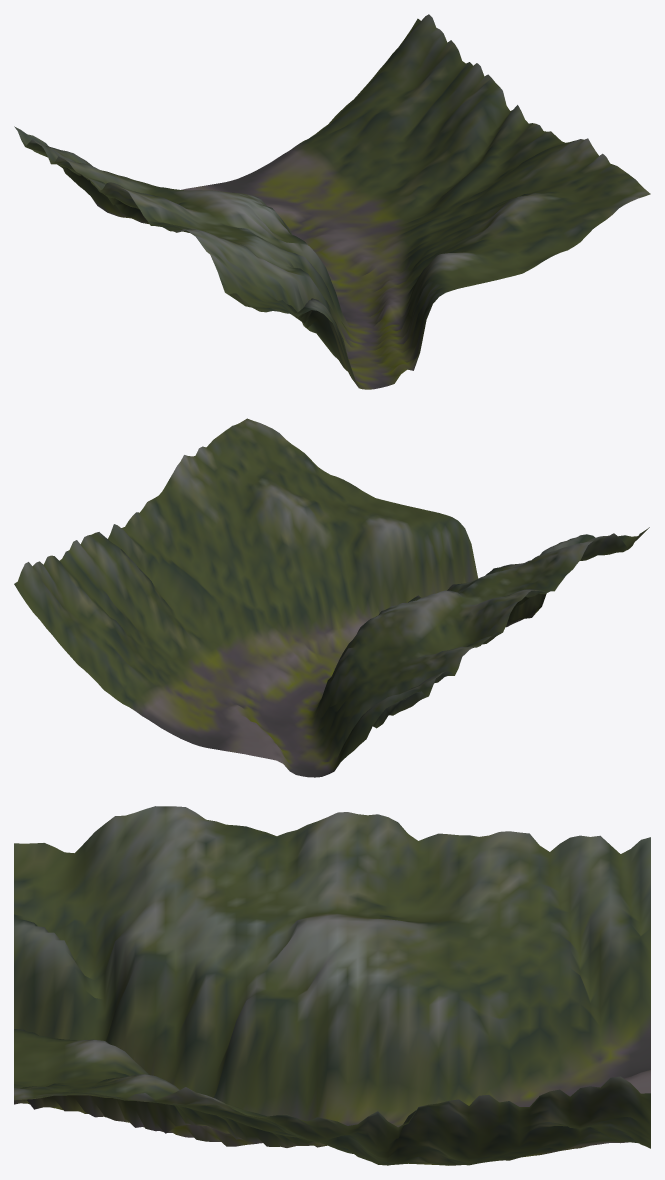
Rendered from TownLandscape_Mesh_x0125_2_3.fbx.
3 renders of one model, top to bottom at view 1: azimuth 30°, elevation 25°; view 2: azimuth 150°, elevation 25°; view 3: azimuth 270°, elevation 25°, orthographic. The views are drawn at different scales.
Visible parts, largest first — view 1: Terrain; view 2: Terrain; view 3: Terrain.
Boxes of the visible parts, x1,y1,x2,y2 form: Terrain: [14, 14, 650, 389]; Terrain: [14, 418, 649, 777]; Terrain: [14, 806, 650, 1165].
Bounding box in the file's own units: 1024 × 364 × 1024.
